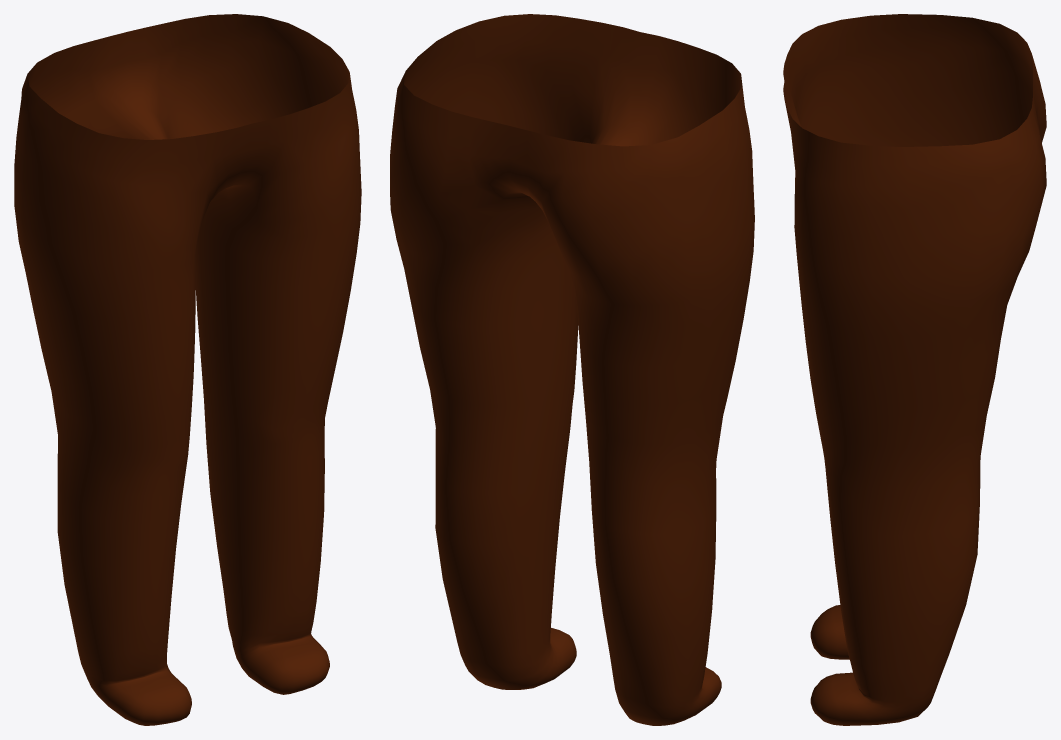
Rendered from sox_brown_santa.fbx.
3 views of the same model, side by side, from view 1: azimuth 30°, elevation 25°; view 2: azimuth 150°, elevation 25°; view 3: azimuth 270°, elevation 25° (orthographic). The views are drawn at different scales.
Visible parts, largest first — view 1: sox_santa; view 2: sox_santa; view 3: sox_santa.
Part boxes in pixels (box(x1,y1,x2,y2)): sox_santa: box(14, 14, 361, 725); sox_santa: box(390, 14, 754, 725); sox_santa: box(783, 14, 1046, 725).
Size of the model in its own units: 0.8239 by 1.56 by 0.6189.
